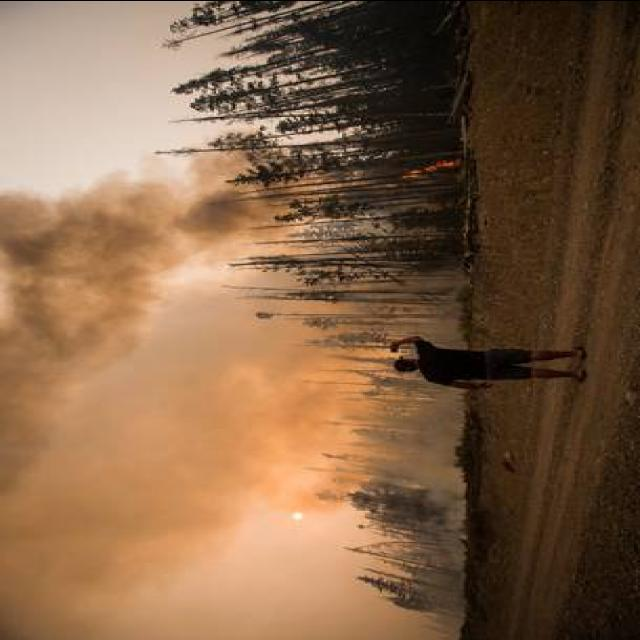Fire: (401, 154, 464, 180)
